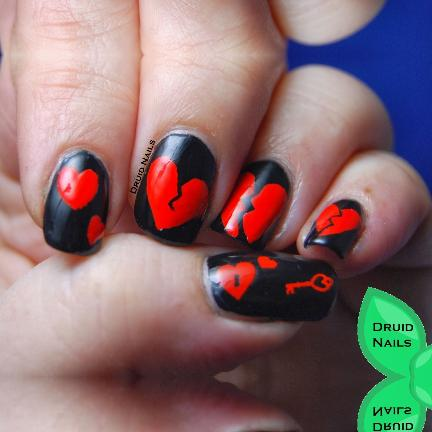Nail: (202, 251, 337, 322), (134, 133, 216, 246), (210, 159, 290, 249), (43, 149, 109, 255), (303, 199, 362, 258)
